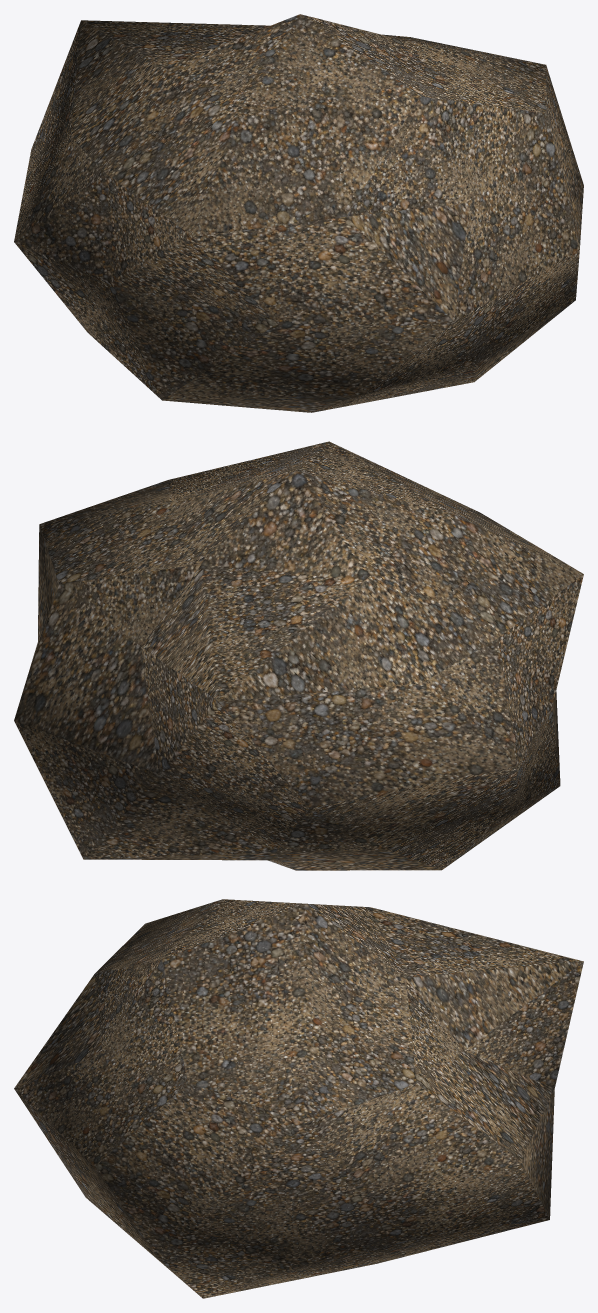
The model's file is level_hc_native_095_0.glb.
3 renders of one model, top to bottom at view 1: azimuth 30°, elevation 25°; view 2: azimuth 150°, elevation 25°; view 3: azimuth 270°, elevation 25°, orthographic. The views are drawn at different scales.
Visible parts, largest first — view 1: level_hc_native_095_0; view 2: level_hc_native_095_0; view 3: level_hc_native_095_0.
Part boxes in pixels (<box>): level_hc_native_095_0: <box>14,14,583,412</box>; level_hc_native_095_0: <box>14,441,583,870</box>; level_hc_native_095_0: <box>14,899,583,1298</box>.
Bounding box in the file's own units: 0.5293 × 0.3912 × 0.5568.
Materials: 1 (1 with a texture image).
